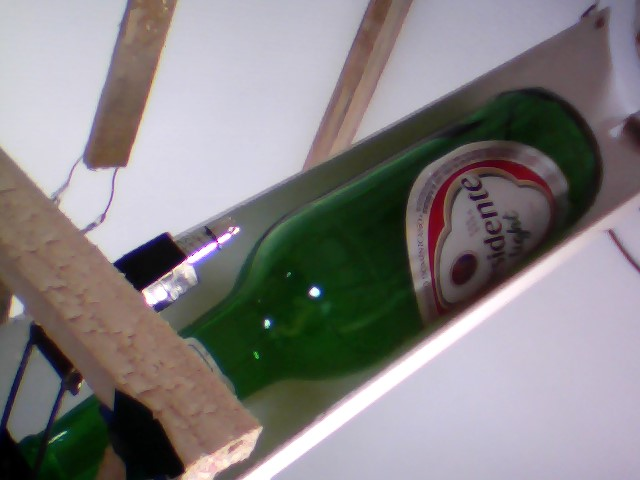vidrio: (159, 83, 604, 409)
